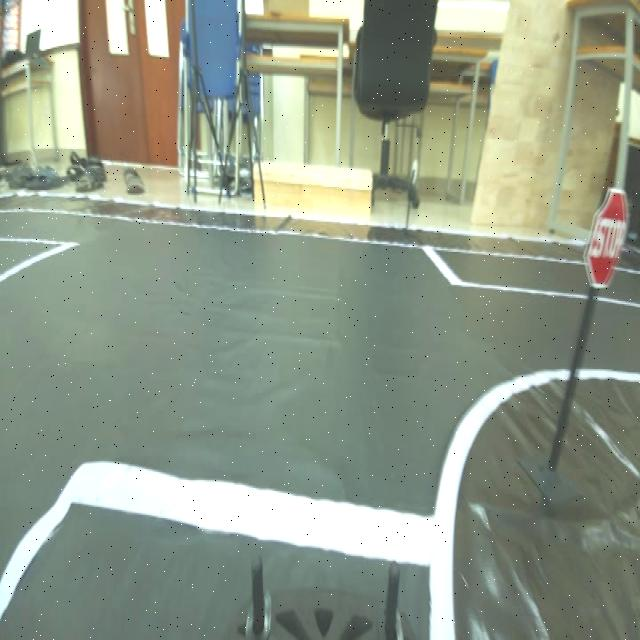stop: (582, 178, 630, 302)
